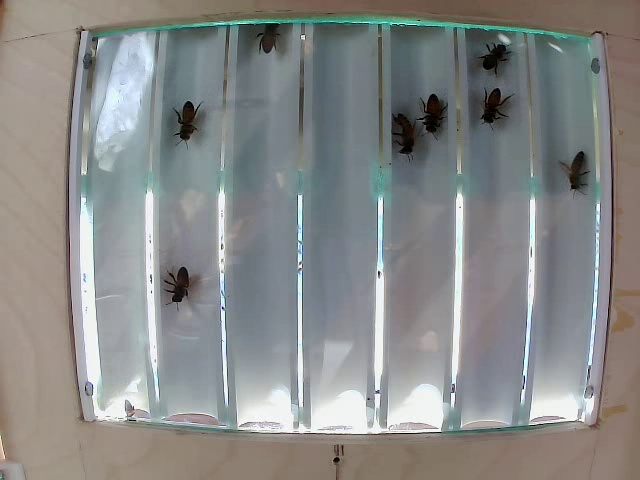bee: (148, 253, 195, 304), (472, 89, 514, 137), (389, 103, 420, 160), (165, 103, 201, 148), (471, 35, 514, 70), (413, 95, 447, 138), (561, 149, 582, 197)
